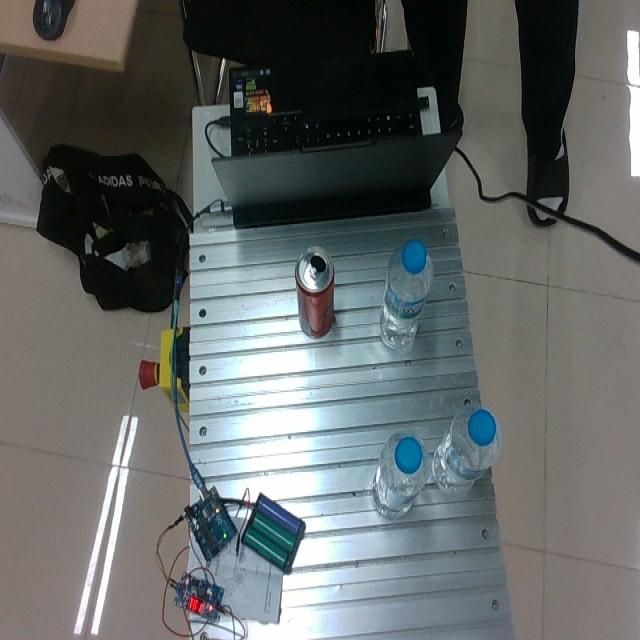coca: (294, 244, 335, 339)
lavie: (431, 404, 501, 495), (377, 240, 433, 349), (370, 430, 429, 518)
